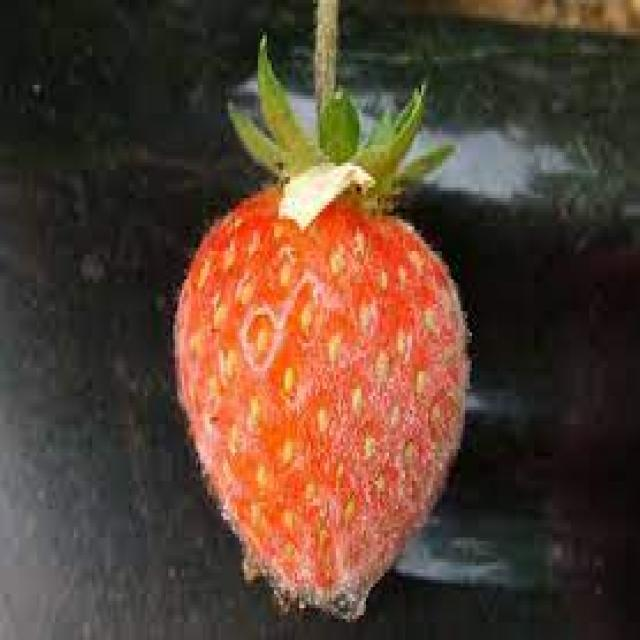Oído: (172, 169, 476, 636)
